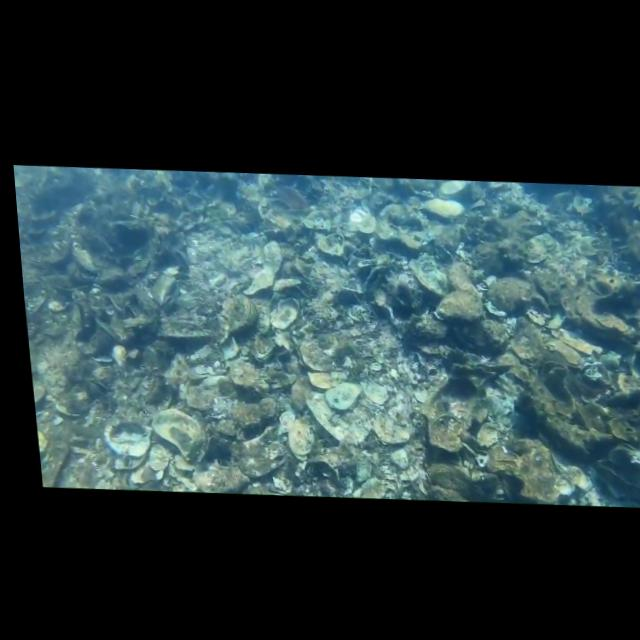Oyster-Closed: (407, 250, 450, 297), (296, 335, 339, 374), (372, 413, 412, 448), (226, 293, 259, 334), (546, 336, 583, 371), (323, 380, 363, 411), (451, 462, 486, 497), (447, 263, 479, 297), (420, 196, 465, 220), (469, 470, 500, 494)
Oyster-Indeterminate: (558, 274, 640, 341), (305, 389, 372, 445), (150, 405, 205, 462), (240, 239, 288, 297), (189, 456, 252, 496), (453, 315, 511, 354), (484, 275, 537, 314), (432, 289, 485, 324), (285, 413, 314, 455), (426, 460, 463, 490), (230, 400, 269, 428), (287, 373, 314, 413), (184, 383, 216, 411)
